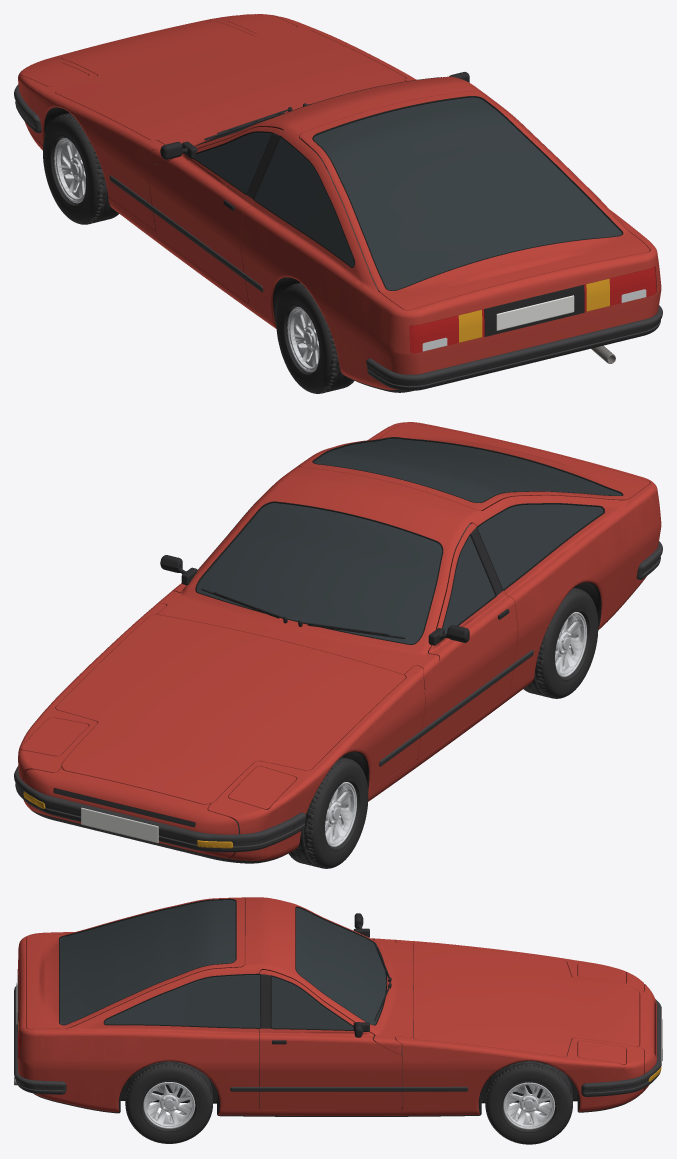
File: kitsune.glb
3 views of the same model, one above another, from view 1: azimuth 30°, elevation 25°; view 2: azimuth 150°, elevation 25°; view 3: azimuth 270°, elevation 25° (orthographic). The views are drawn at different scales.
Parts seen in each view (by area): view 1: Body, Glass_Rear, Hood, Trunk, Door_FL, Fender_FL, Glass_RL, Bumper_R, Wheel_FL_Tyre, Wheel_RL_Tyre, Glass_FL, Light_Tail_L (+8 smaller); view 2: Body, Hood, Glass_Front, Glass_Rear, Fender_FL, Door_FL, Glass_RL, Trunk, Wheel_FL_Tyre, Bumper_F, Wheel_RL_Tyre, Fender_FR (+7 smaller); view 3: Body, Hood, Glass_Rear, Door_FR, Fender_FR, Glass_Front, Glass_RR, Trunk, Wheel_FR_Tyre, Wheel_RR_Tyre, Glass_FR, Wheel_FR_Rim (+7 smaller).
Boxes of the visible parts, <box> form: Body: <box>27,16,661,392</box>; Glass_Rear: <box>312,96,623,290</box>; Hood: <box>55,21,405,140</box>; Trunk: <box>299,91,649,310</box>; Door_FL: <box>149,127,283,302</box>; Fender_FL: <box>18,57,164,230</box>; Glass_RL: <box>253,136,355,267</box>; Bumper_R: <box>366,305,662,390</box>; Wheel_FL_Tyre: <box>43,113,118,224</box>; Wheel_RL_Tyre: <box>276,282,354,393</box>; Glass_FL: <box>193,131,272,194</box>; Light_Tail_L: <box>409,309,484,353</box>; Body: <box>23,422,661,863</box>; Hood: <box>55,614,405,804</box>; Glass_Front: <box>195,501,443,644</box>; Glass_Rear: <box>312,437,623,502</box>; Fender_FL: <box>208,665,424,860</box>; Door_FL: <box>417,523,517,759</box>; Glass_RL: <box>476,503,604,590</box>; Trunk: <box>299,422,649,510</box>; Wheel_FL_Tyre: <box>288,757,368,868</box>; Bumper_F: <box>14,766,306,852</box>; Wheel_RL_Tyre: <box>523,587,598,698</box>; Fender_FR: <box>18,603,166,811</box>; Body: <box>17,897,656,1116</box>; Hood: <box>413,943,639,1057</box>; Glass_Rear: <box>59,898,236,1025</box>; Door_FR: <box>259,970,402,1110</box>; Fender_FR: <box>395,1036,644,1106</box>; Glass_Front: <box>295,906,387,1025</box>; Glass_RR: <box>103,973,261,1028</box>; Trunk: <box>26,897,244,1029</box>; Wheel_FR_Tyre: <box>485,1061,572,1144</box>; Wheel_RR_Tyre: <box>125,1061,212,1143</box>; Glass_FR: <box>270,975,353,1030</box>; Wheel_FR_Rim: <box>503,1082,555,1129</box>.
Bounding box in the file's own units: 1.85 × 1.25 × 4.36.
